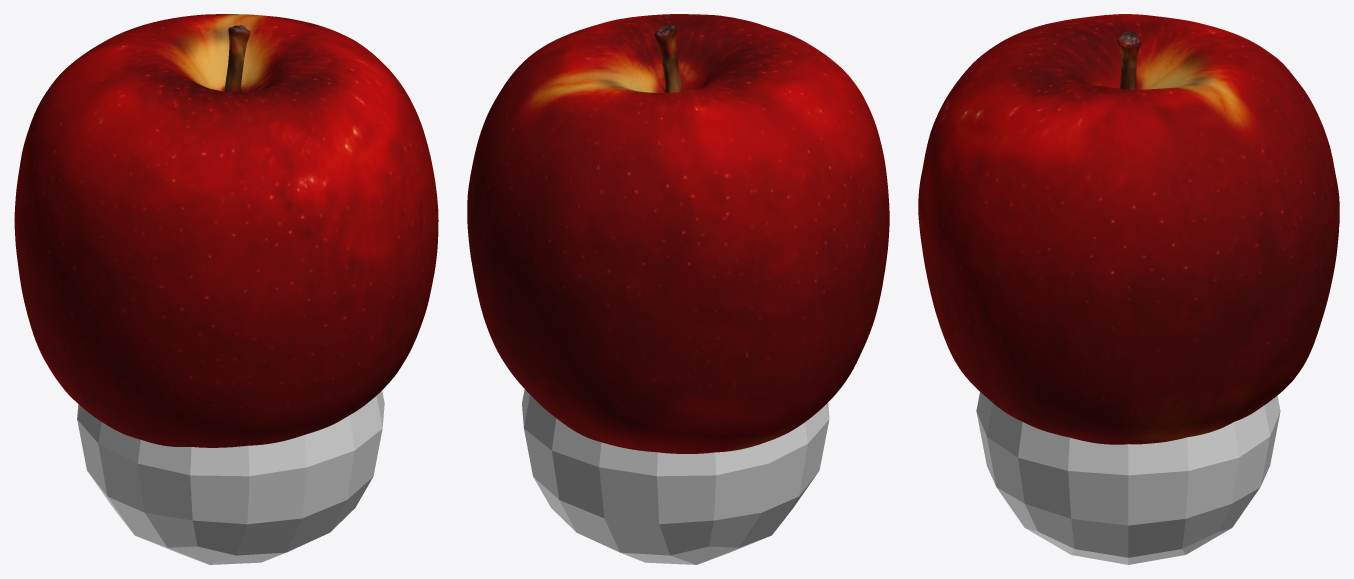
File: apple.glb
The picture shows the model from 3 angles, left to right: view 1: azimuth 30°, elevation 25°; view 2: azimuth 150°, elevation 25°; view 3: azimuth 270°, elevation 25°; orthographic projection.
Parts seen in each view (by area): view 1: tmpwkipfct2.ply, Cube; view 2: tmpwkipfct2.ply, Cube; view 3: tmpwkipfct2.ply, Cube.
Part boxes in pixels (left/top/right/bottom): tmpwkipfct2.ply: left=14, top=14, right=438, bottom=447; Cube: left=77, top=390, right=384, bottom=564; tmpwkipfct2.ply: left=467, top=14, right=889, bottom=453; Cube: left=522, top=389, right=829, bottom=564; tmpwkipfct2.ply: left=918, top=14, right=1339, bottom=444; Cube: left=976, top=392, right=1280, bottom=564.
Bounding box in the file's own units: 2.32 × 3.16 × 2.33.
3 materials, 2 textured.
